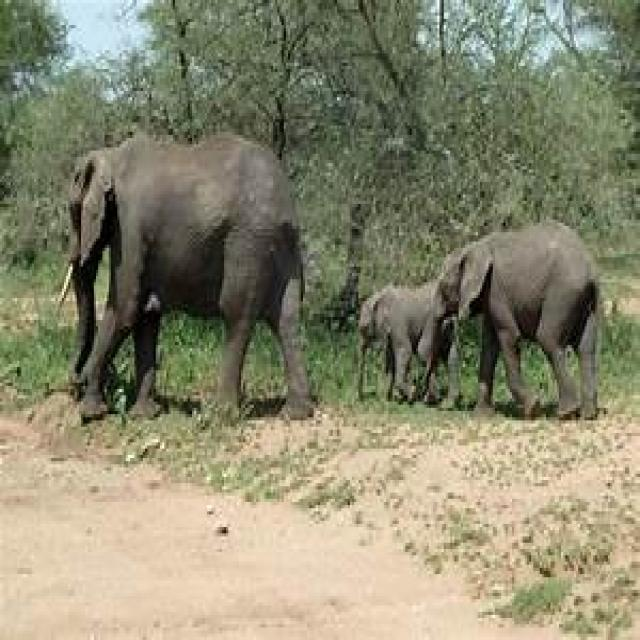elephant: (66, 135, 316, 424), (437, 223, 606, 420), (358, 279, 450, 402)
